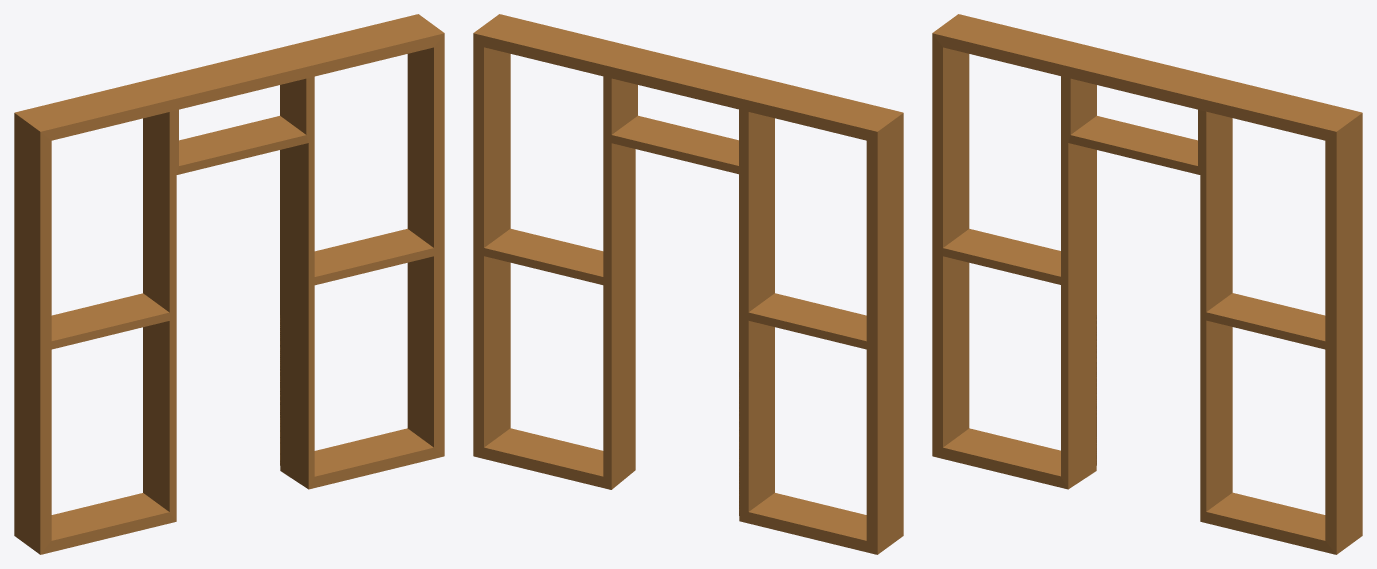
The picture shows the model from 3 angles, left to right: view 1: azimuth 30°, elevation 25°; view 2: azimuth 150°, elevation 25°; view 3: azimuth 330°, elevation 25°; orthographic projection.
Parts seen in each view (by area): view 1: I-2; view 2: I-2; view 3: I-2.
Part boxes in pixels (box(x1,y1,x2,y2)): I-2: box(14, 14, 444, 554); I-2: box(473, 14, 903, 554); I-2: box(932, 14, 1362, 554).
Size of the model in its own units: 612 by 612 by 69.13.
